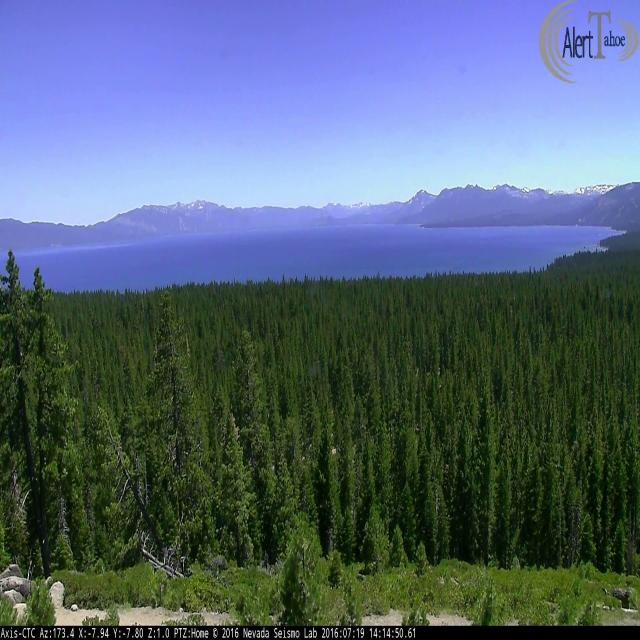smoke: (584, 242, 608, 252)
